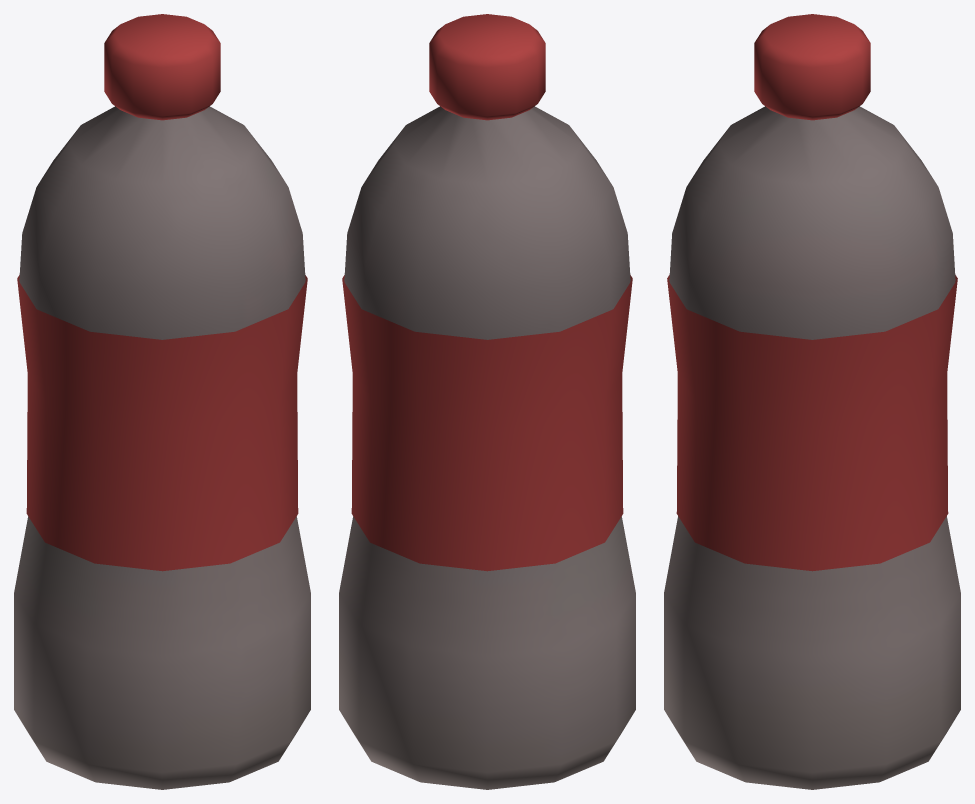
The model's file is Cold Drink Bottle.fbx.
3 renders of one model, left to right at view 1: azimuth 30°, elevation 25°; view 2: azimuth 150°, elevation 25°; view 3: azimuth 270°, elevation 25°, orthographic.
Parts seen in each view (by area): view 1: Cold Drink Bottle; view 2: Cold Drink Bottle; view 3: Cold Drink Bottle.
Part boxes in pixels (x1,y1,x2,y2): Cold Drink Bottle: (14, 14, 310, 789); Cold Drink Bottle: (339, 14, 635, 789); Cold Drink Bottle: (664, 14, 960, 789).
Bounding box in the file's own units: 25.11 × 66.11 × 25.11.
